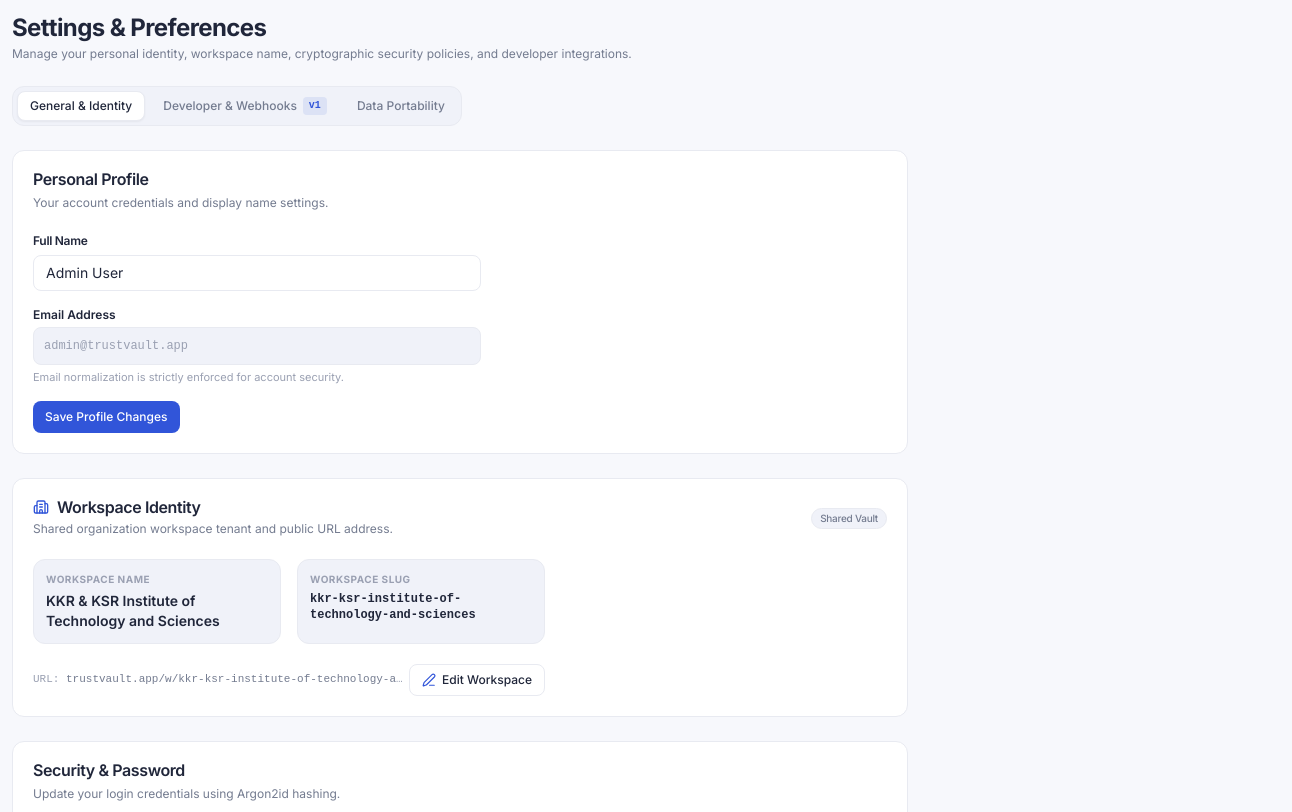
Workspace Identity Settings (Name and Slug Editing) › clicking Edit reveals editable inputs, Save Changes, and Cancel buttons
Step 1. Click the button "Edit Workspace" → [477, 680], box [409,664,545,696]
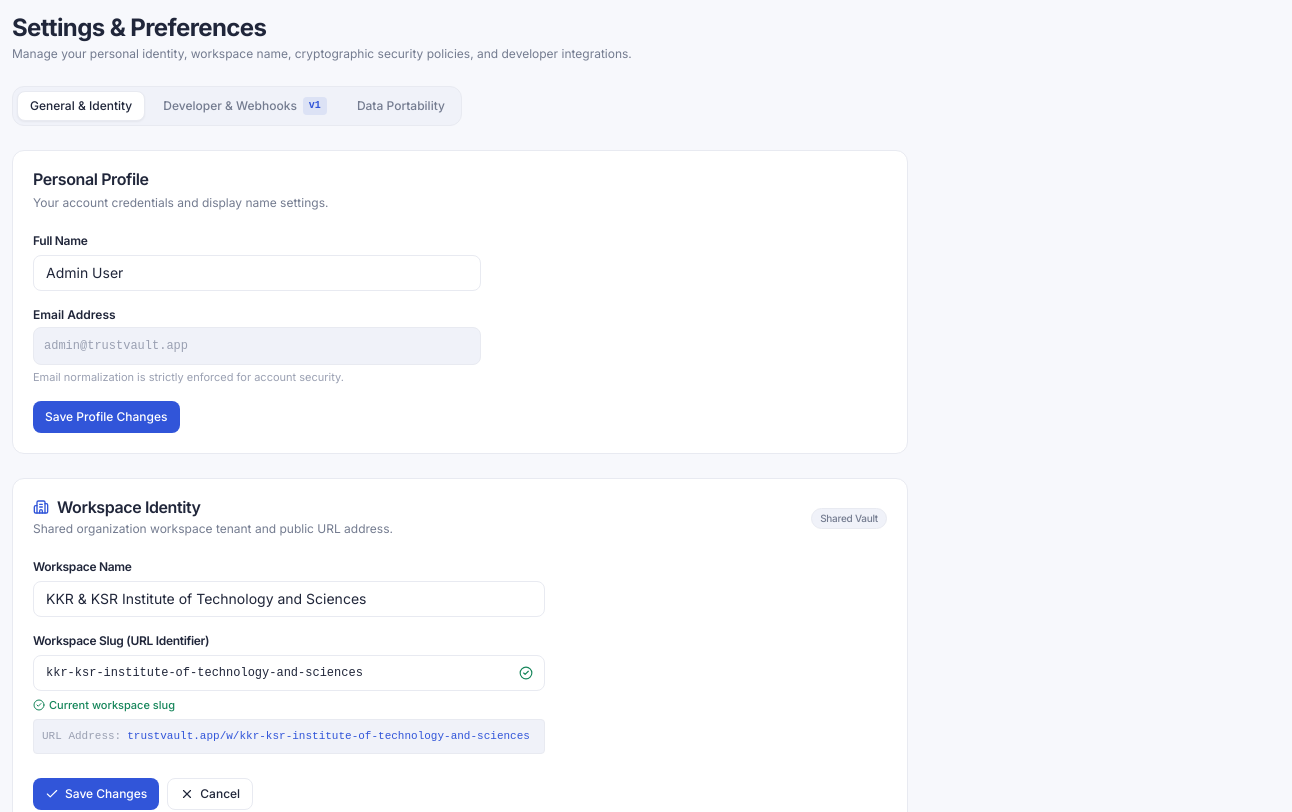
Result: the field labelled "Workspace Name" is shown at [33,580,545,616]
Result: the field labelled "Workspace Slug (URL Identifier)" is shown at [33,654,545,690]
Result: the button "Save Changes" is shown at [33,778,159,810]
